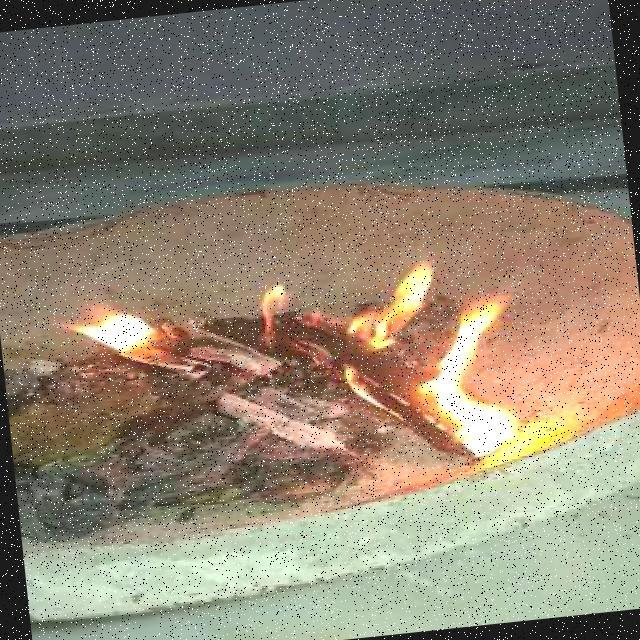Fire: (249, 247, 519, 480), (57, 269, 189, 379)
